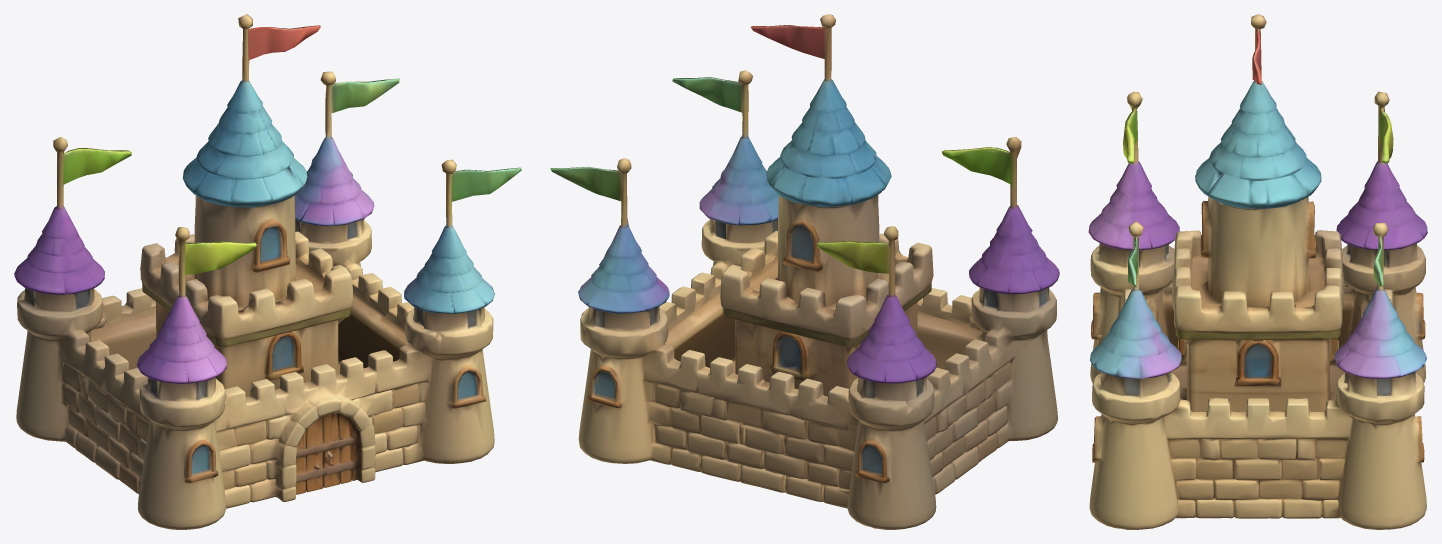
File: castle.glb
3 renders of one model, left to right at view 1: azimuth 30°, elevation 25°; view 2: azimuth 150°, elevation 25°; view 3: azimuth 270°, elevation 25°, orthographic.
Parts seen in each view (by area): view 1: tripo_node_43e42c7f-a507-4e2d-bd48-7692785099b5; view 2: tripo_node_43e42c7f-a507-4e2d-bd48-7692785099b5; view 3: tripo_node_43e42c7f-a507-4e2d-bd48-7692785099b5.
Part boxes in pixels (<box>): tripo_node_43e42c7f-a507-4e2d-bd48-7692785099b5: <box>14,14,521,529</box>; tripo_node_43e42c7f-a507-4e2d-bd48-7692785099b5: <box>550,14,1059,529</box>; tripo_node_43e42c7f-a507-4e2d-bd48-7692785099b5: <box>1088,14,1427,529</box>.
Bounding box in the file's own units: 0.9348 × 1 × 0.7146.
Materials: 1 (1 with a texture image).
